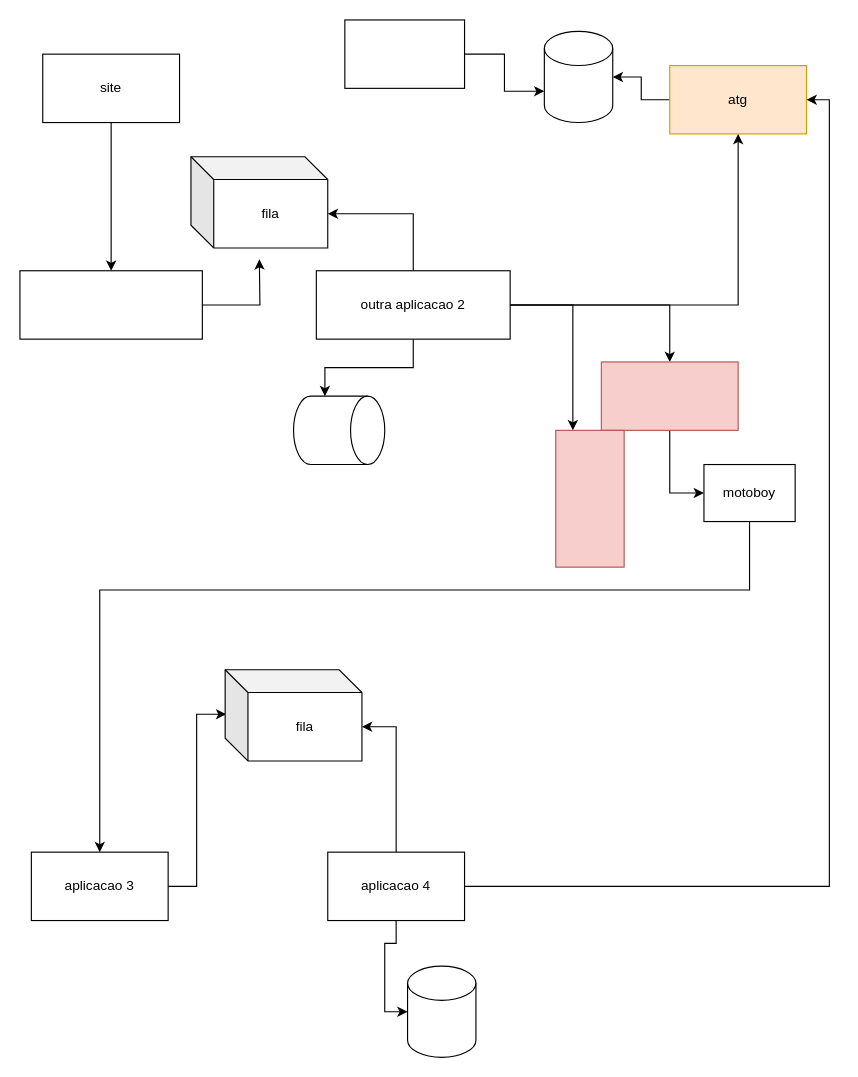
Image size: 858x1077. Some labels were removed from this diagram. The shapes that lost their labels are listed below. From the top down, each one's centre as x and y in pixels, then its label:
(404,53): nerd
(110,304): cai na aplicacao 1
(669,395): bringg
(589,498): intelipost acaba particiando do fiscal
